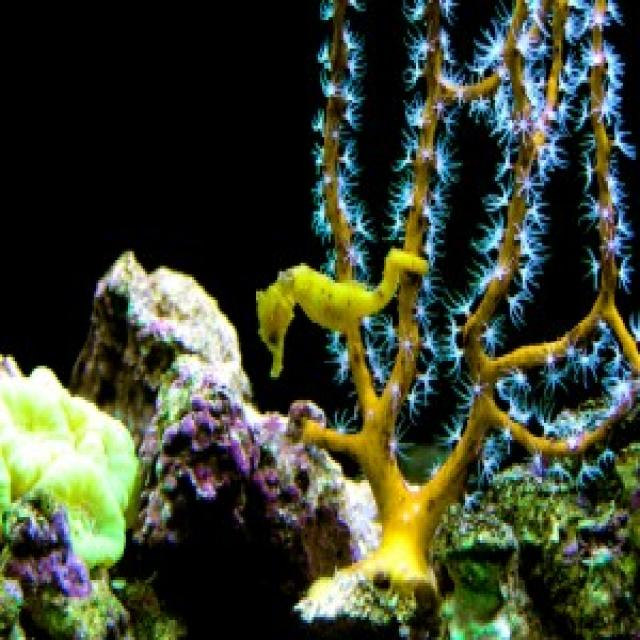Seahorse: (245, 243, 434, 369)
